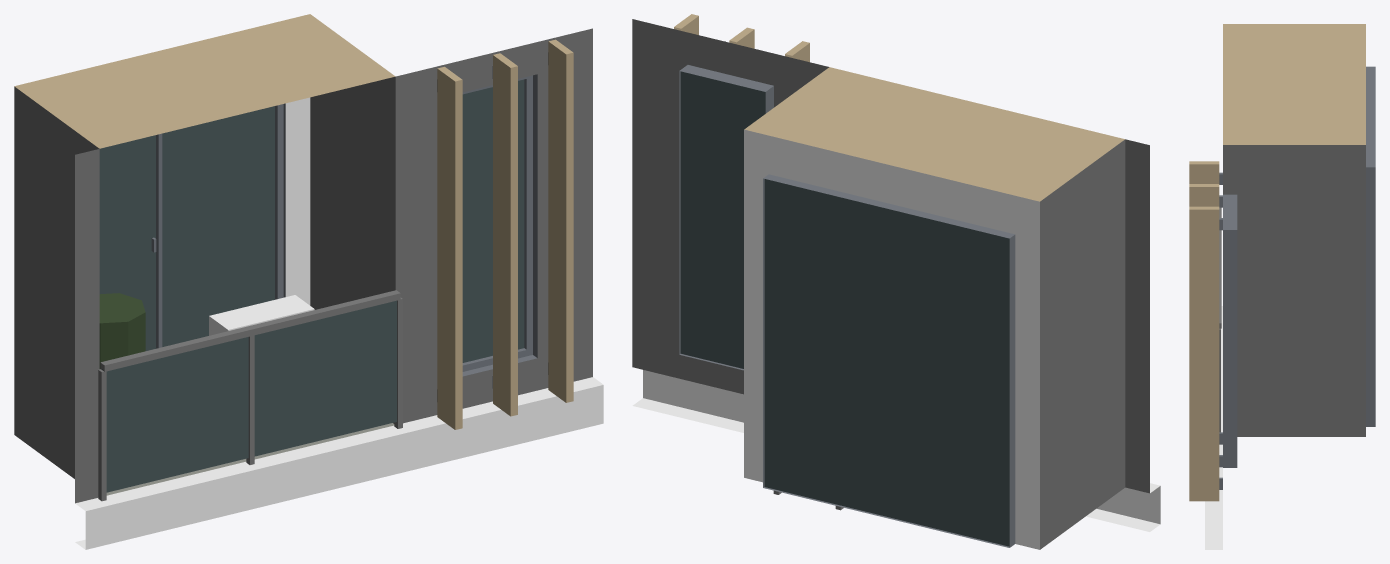
File: mid-w1_close.fbx
3 views of the same model, side by side, from view 1: azimuth 30°, elevation 25°; view 2: azimuth 150°, elevation 25°; view 3: azimuth 270°, elevation 25° (orthographic). The views are drawn at different scales.
Visible parts, largest first — view 1: a2006/750/mid-w1_close; view 2: a2006/750/mid-w1_close; view 3: a2006/750/mid-w1_close.
Part boxes in pixels (box(x1,y1,x2,y2)): a2006/750/mid-w1_close: box(14, 14, 603, 549); a2006/750/mid-w1_close: box(632, 14, 1160, 549); a2006/750/mid-w1_close: box(1189, 24, 1375, 549).
Bounding box in the file's own units: 4.2 × 3 × 1.56.
